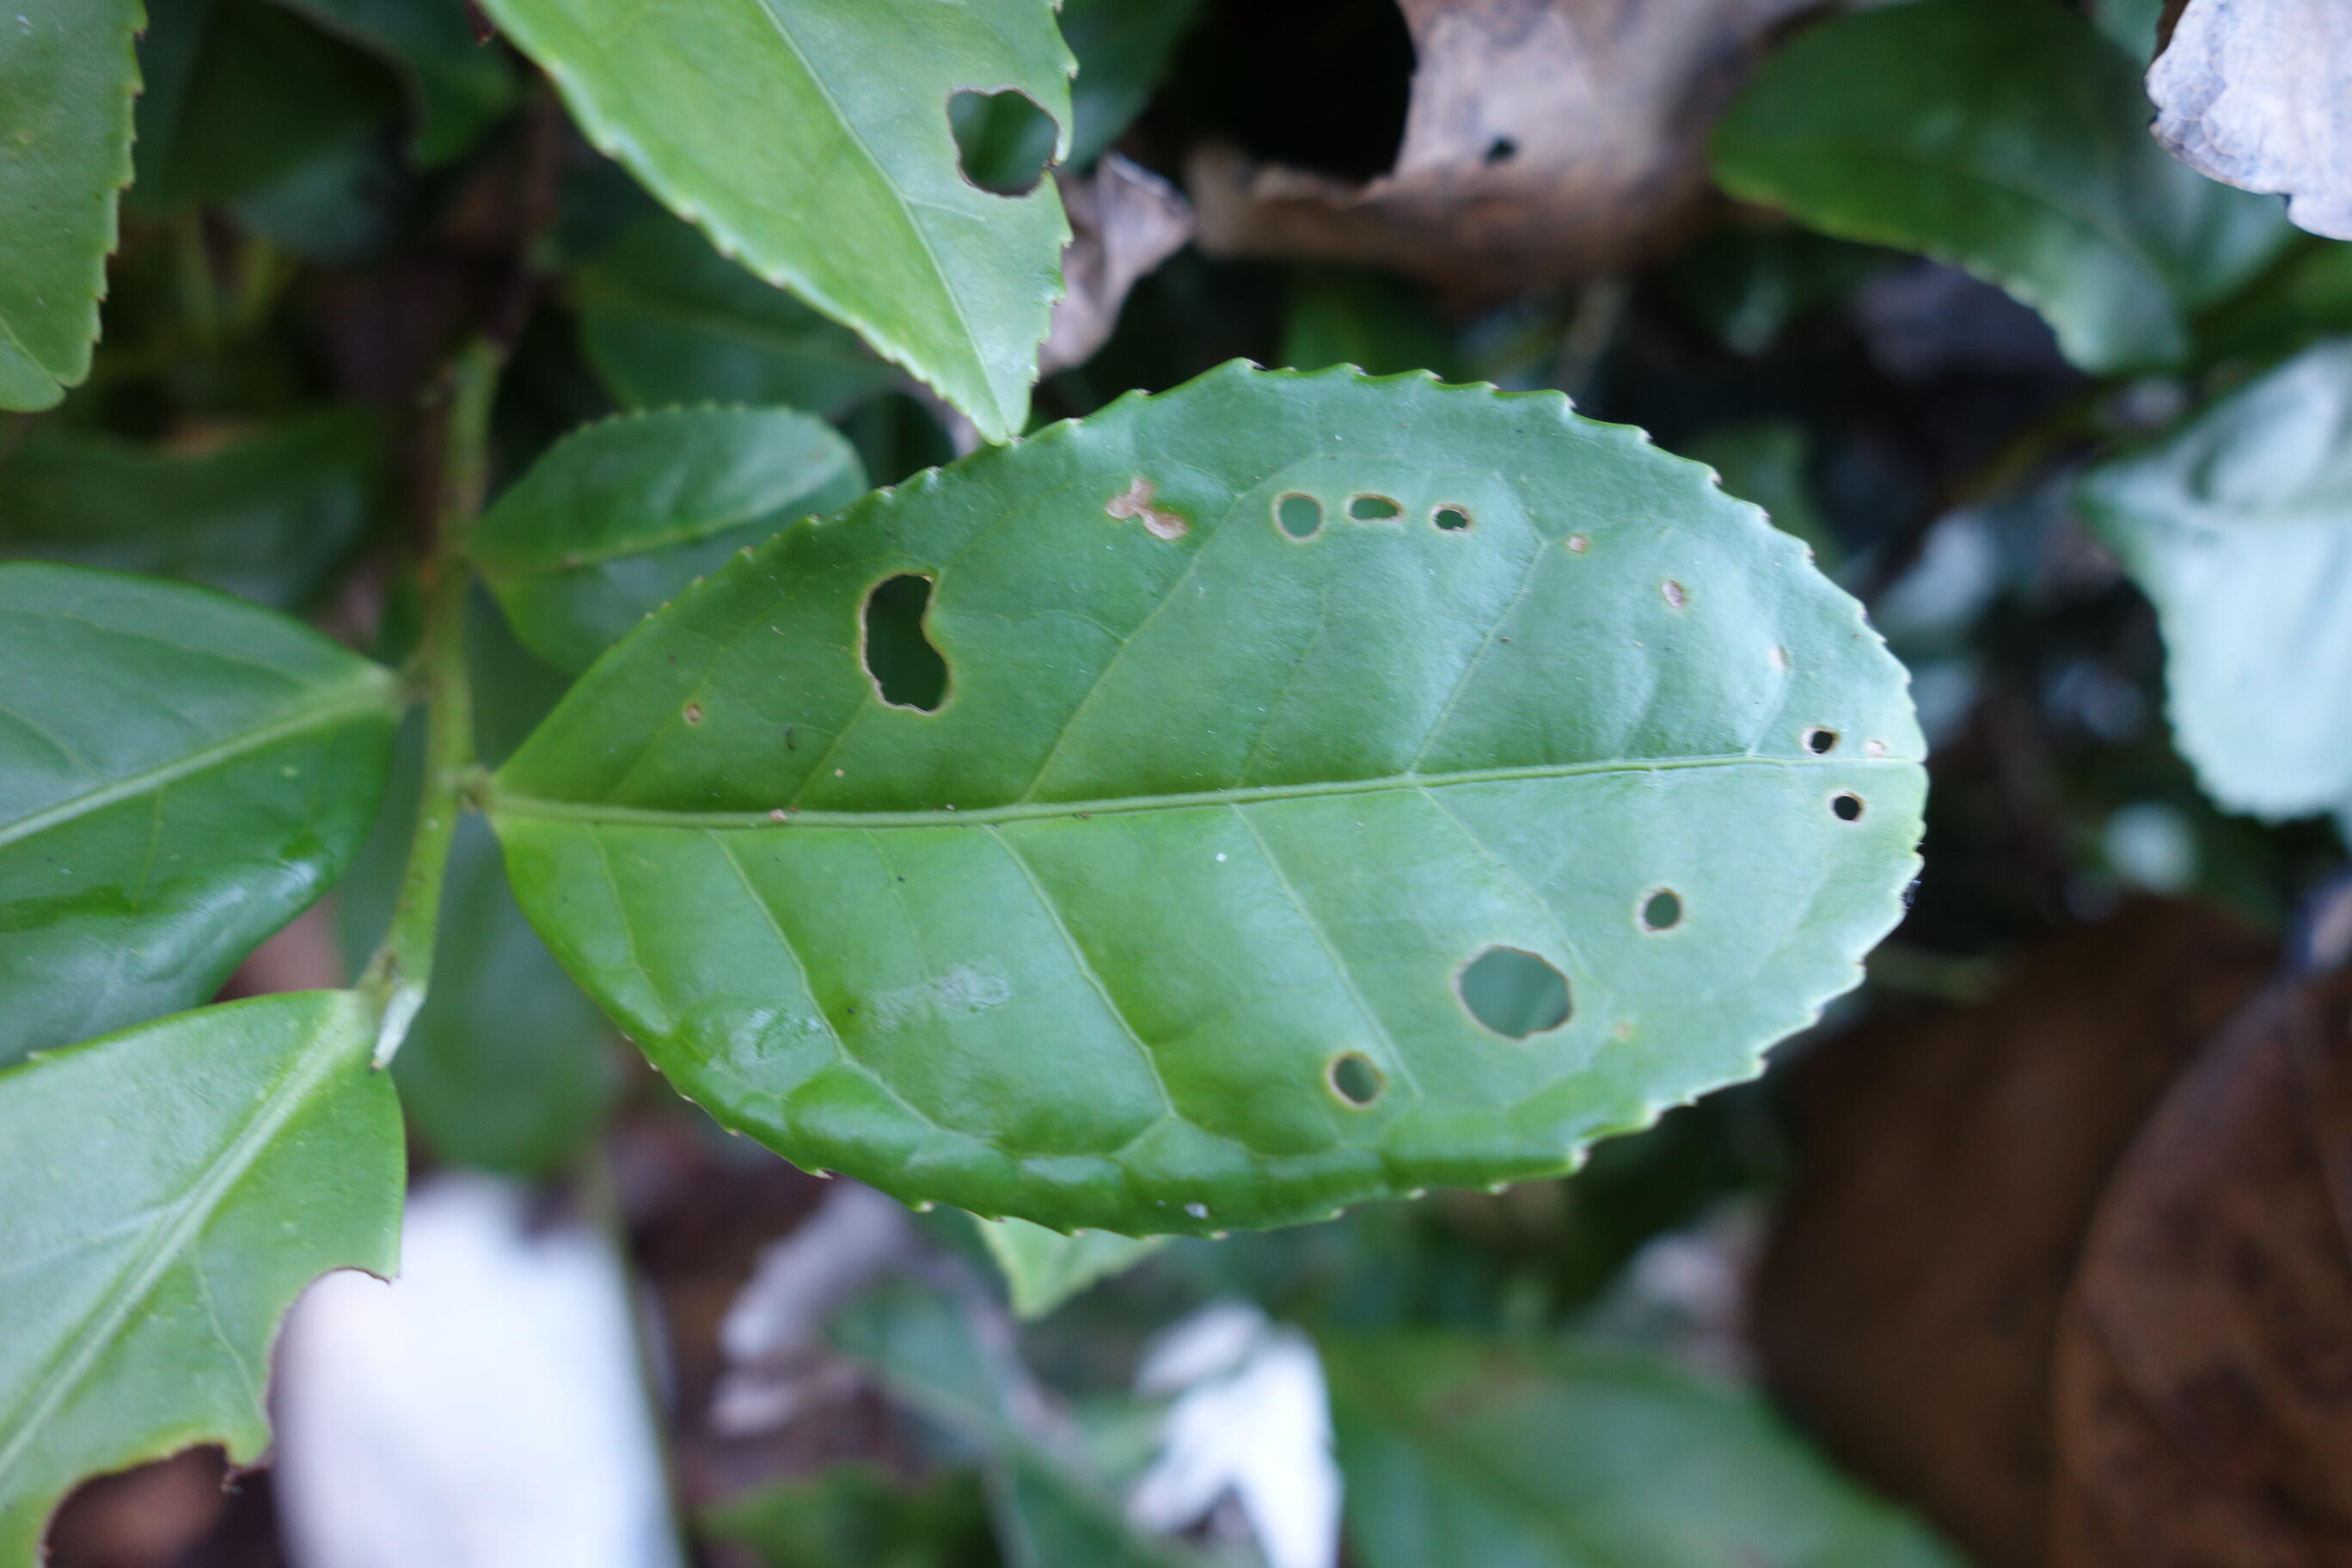chihuo_high: (479, 352, 1934, 1237), (3, 990, 413, 1564)
chihuo_low: (483, 2, 1080, 444)
